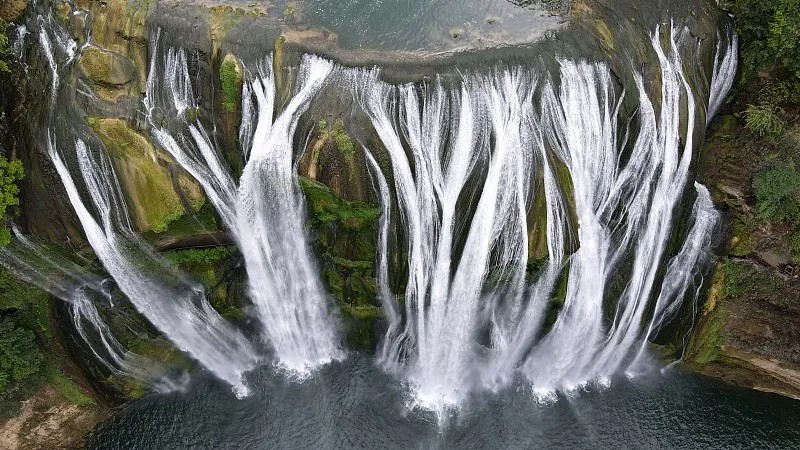Huangguoshu: (17, 8, 736, 407)
